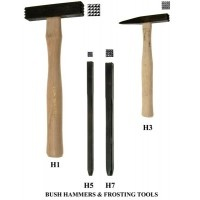hammer: (23, 1, 85, 158), (118, 13, 171, 120)
